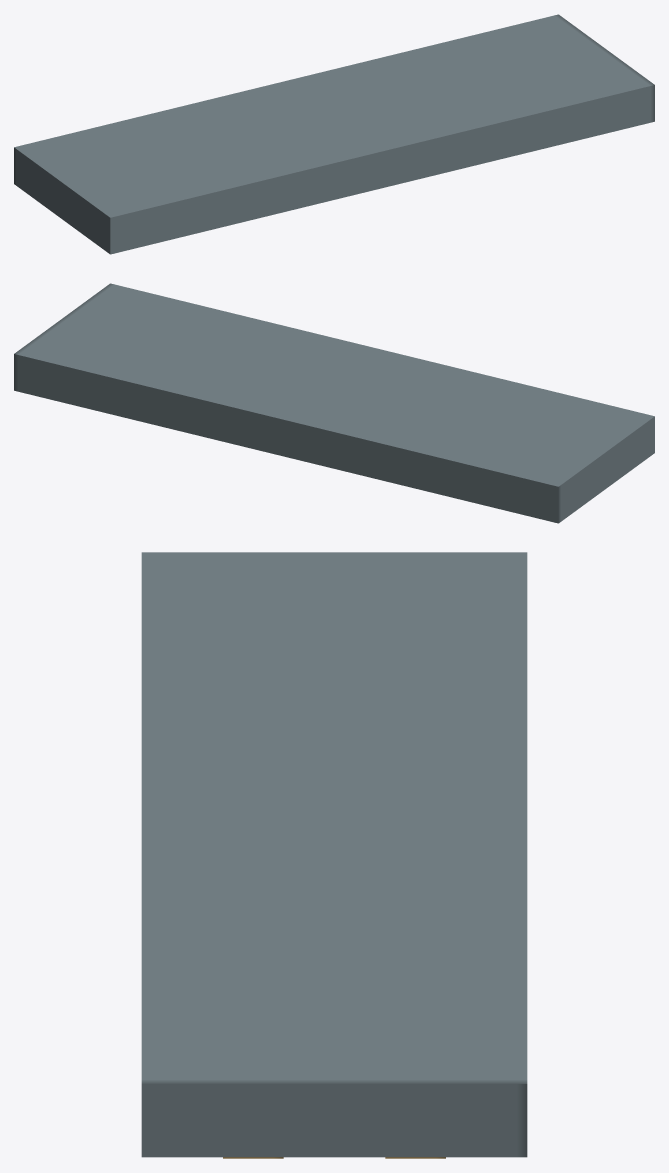
File: lampa_2.dae
3 views of the same model, one above another, from view 1: azimuth 30°, elevation 25°; view 2: azimuth 150°, elevation 25°; view 3: azimuth 270°, elevation 25° (orthographic). The views are drawn at different scales.
Visible parts, largest first — view 1: Content; view 2: Content; view 3: Content.
Boxes of the visible parts, left/top/right/bottom form: Content: left=14, top=14, right=654, bottom=254; Content: left=14, top=283, right=654, bottom=523; Content: left=141, top=552, right=527, bottom=1158.
Bounding box in the file's own units: 62 × 5 × 19.
1 material, 1 textured.
